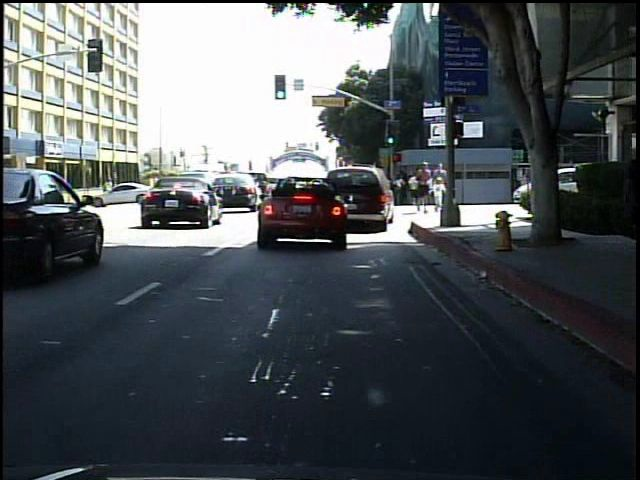person: (414, 160, 434, 214), (100, 177, 119, 204), (429, 176, 444, 209)
